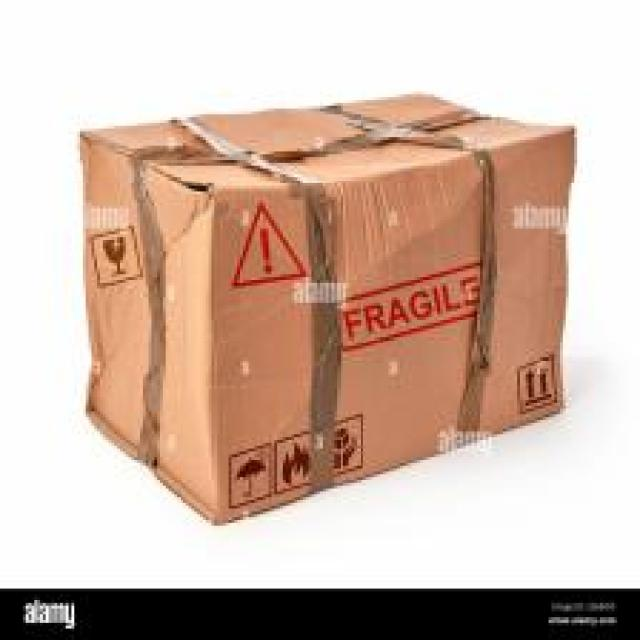box: (74, 90, 579, 527)
crushed: (78, 132, 223, 469)
